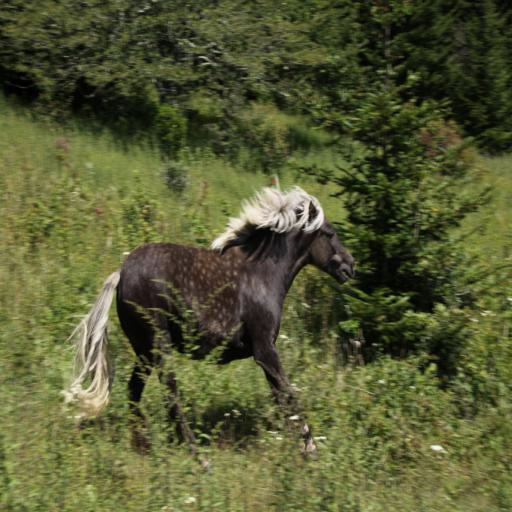horse: (67, 172, 358, 476)
